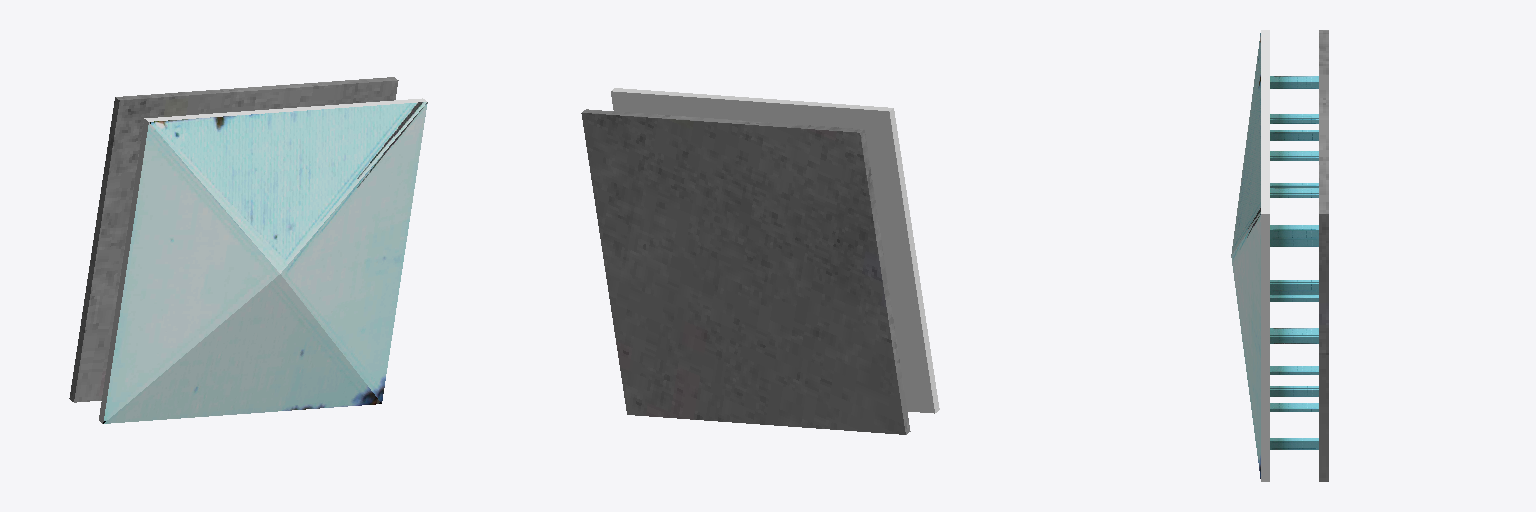
3 views of the same model, side by side, from view 1: azimuth 30°, elevation 25°; view 2: azimuth 150°, elevation 25°; view 3: azimuth 270°, elevation 25° (orthographic).
Parts seen in each view (by area): view 1: polygon.825; view 2: polygon.825; view 3: polygon.825.
Part boxes in pixels (bbox=[...]): polygon.825: bbox=[69, 77, 427, 423]; polygon.825: bbox=[581, 88, 939, 434]; polygon.825: bbox=[1231, 30, 1328, 481].
Size of the model in its own units: 20.23 by 20.19 by 5.26.
1 materials, 1 textured.